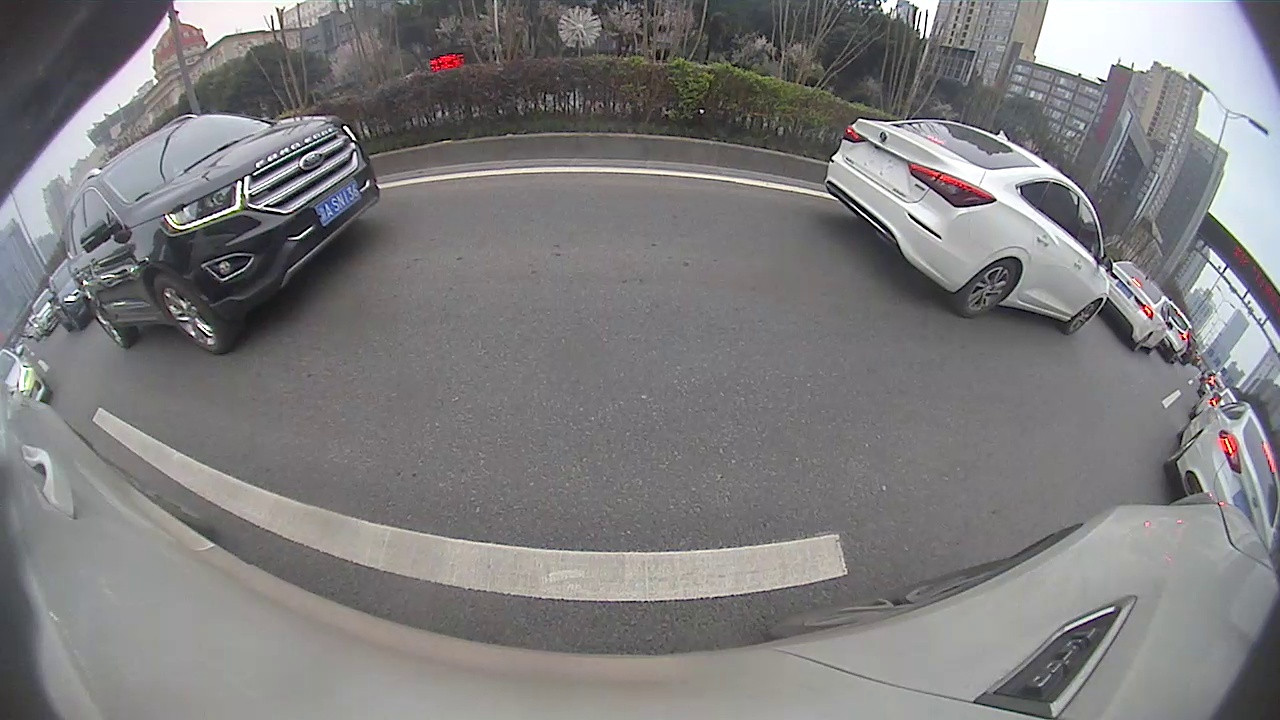car: (63, 110, 384, 358), (823, 116, 1115, 337), (1162, 394, 1278, 554), (1100, 254, 1177, 353), (44, 260, 95, 335)
front: (154, 276, 226, 357), (1064, 298, 1101, 336)
rear: (957, 258, 1022, 319), (87, 298, 127, 349)
